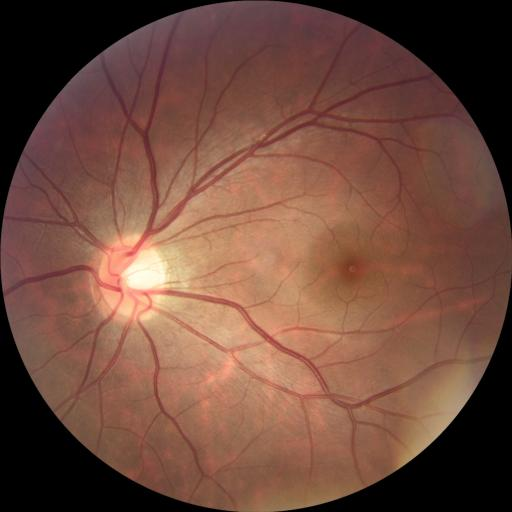Optic Cup: (120, 256, 163, 291)
Optic Disc: (98, 235, 167, 318)
